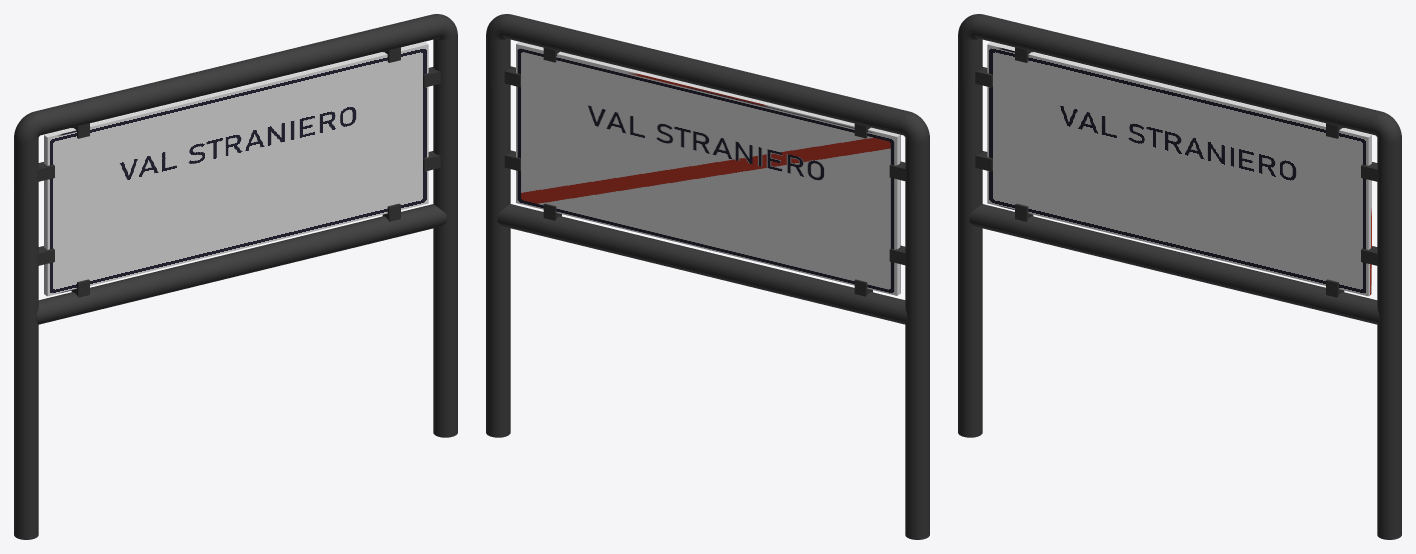
File: ortsschild_straniero.glb
3 views of the same model, side by side, from view 1: azimuth 30°, elevation 25°; view 2: azimuth 150°, elevation 25°; view 3: azimuth 330°, elevation 25° (orthographic).
Parts seen in each view (by area): view 1: Plane, Cylinder, Cube, Cube.004; view 2: Plane.001, Cylinder, Cube, Cube.004; view 3: Plane, Cylinder, Cube, Cube.004.
Boxes of the visible parts, x1=… form: Plane: x1=48, y1=46, x2=427, y2=295; Cylinder: x1=14, y1=14, x2=457, y2=539; Cube: x1=44, y1=42, x2=428, y2=296; Cube.004: x1=38, y1=47, x2=440, y2=297; Plane.001: x1=516, y1=46, x2=895, y2=295; Cylinder: x1=486, y1=14, x2=929, y2=539; Cube: x1=516, y1=41, x2=900, y2=295; Cube.004: x1=504, y1=48, x2=905, y2=296; Plane: x1=988, y1=46, x2=1367, y2=295; Cylinder: x1=958, y1=14, x2=1401, y2=539; Cube: x1=987, y1=42, x2=1371, y2=296; Cube.004: x1=975, y1=47, x2=1377, y2=297.
Size of the model in its own units: 7.85 by 7.15 by 0.3817.
Materials: 4 (2 with a texture image).
